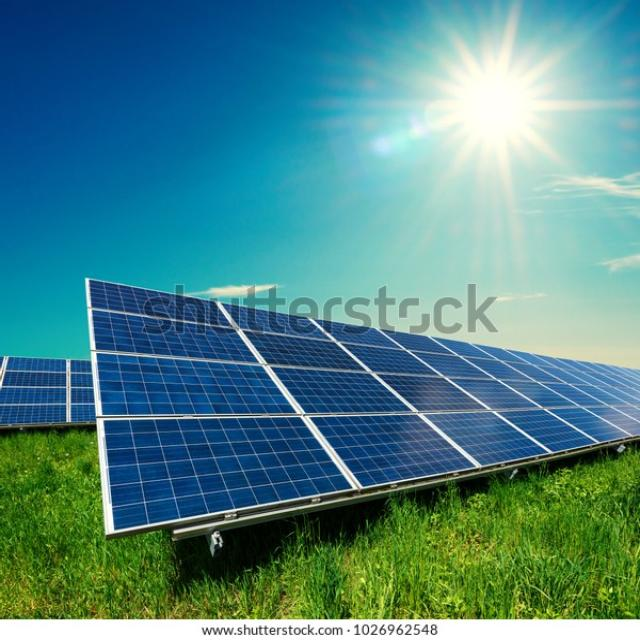clean-solar-panel: (88, 280, 639, 539)
